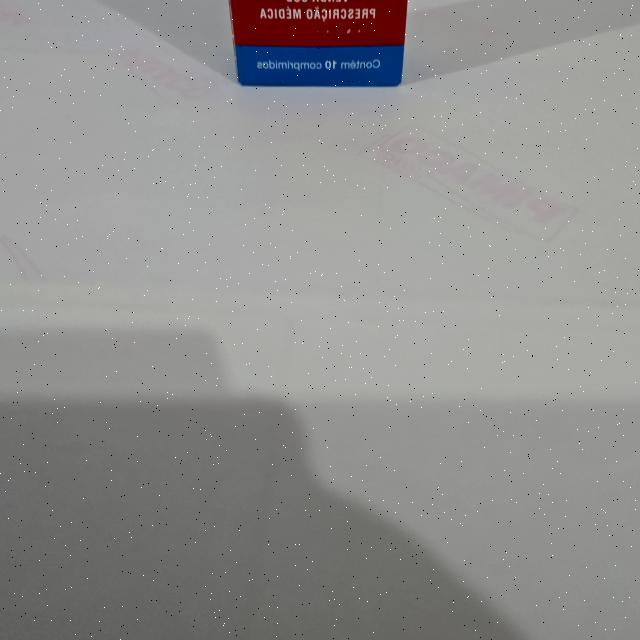prednisona: (220, 0, 413, 94)
